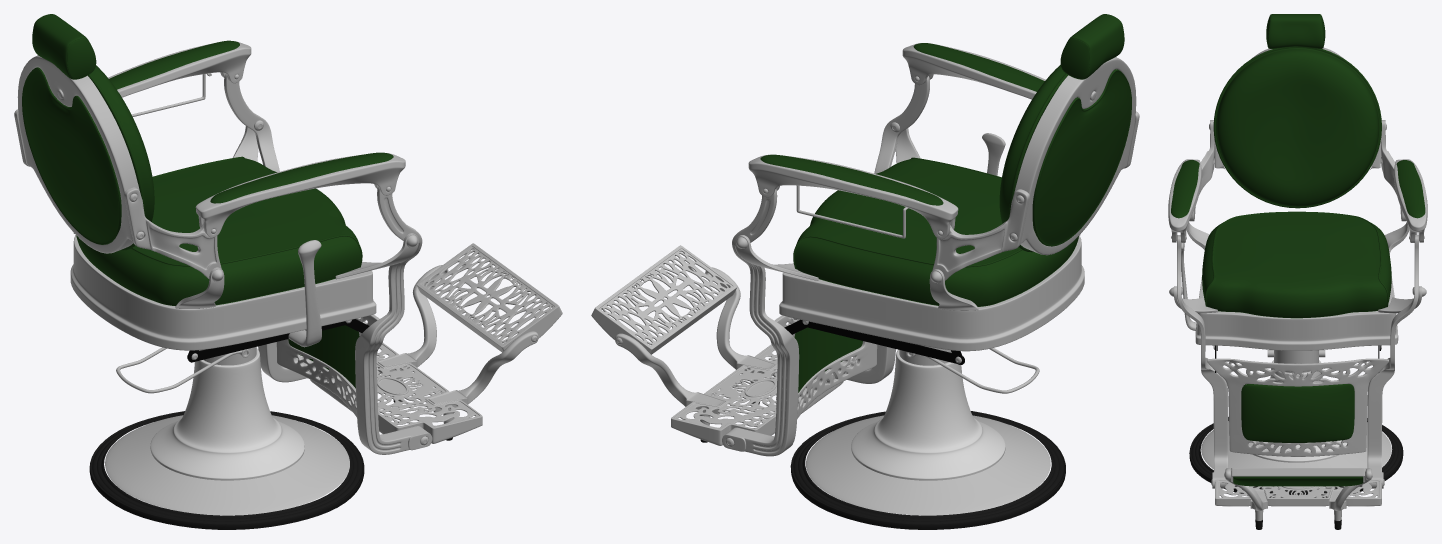
The model's file is tonsor.glb.
The picture shows the model from 3 angles, left to right: view 1: azimuth 30°, elevation 25°; view 2: azimuth 150°, elevation 25°; view 3: azimuth 270°, elevation 25°; orthographic projection. The views are drawn at different scales.
Visible parts, largest first — view 1: Line003, Plane016, Object006, Rectangle002; view 2: Line003, Plane016, Object006, Rectangle002; view 3: Plane016, Line003, Object006.
Part boxes in pixels (box(x1,y1,x2,y2)): Line003: box(14, 41, 562, 515); Plane016: box(22, 14, 393, 388); Object006: box(89, 400, 452, 529); Rectangle002: box(187, 319, 369, 362); Line003: box(591, 43, 1139, 515); Plane016: box(760, 14, 1131, 392); Object006: box(700, 402, 1065, 529); Rectangle002: box(784, 319, 964, 364); Plane016: box(1171, 14, 1425, 486); Line003: box(1168, 47, 1427, 520); Object006: box(1189, 417, 1403, 529).
Bounding box in the file's own units: 0.9891 × 0.97 × 0.6038.
4 materials, 4 textured.
